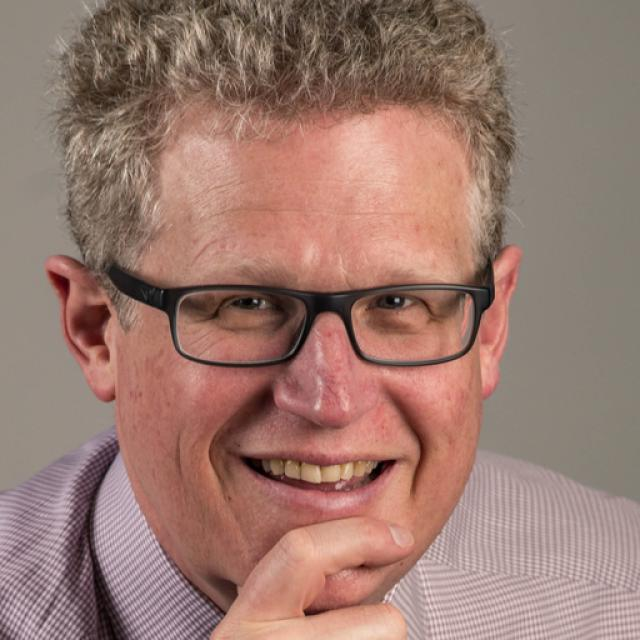Pigmentation: (279, 325, 376, 409)
